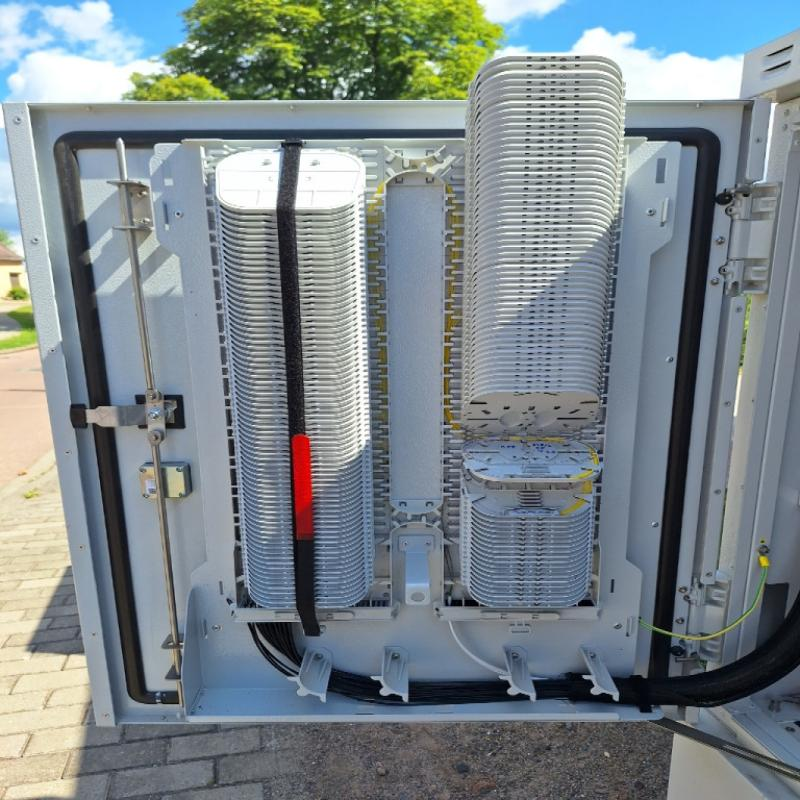NT-Gehause: (12, 33, 800, 800)
Spleiskassetten: (450, 49, 640, 613), (196, 147, 387, 616)
